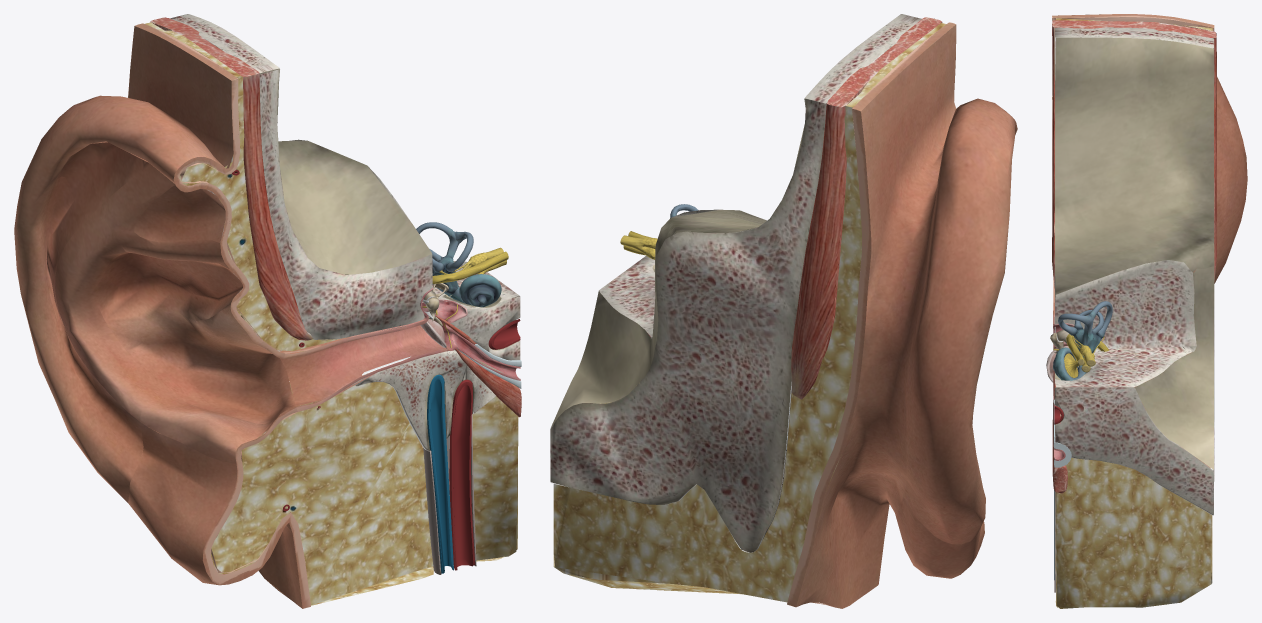
The model's file is ear.fbx.
3 renders of one model, left to right at view 1: azimuth 30°, elevation 25°; view 2: azimuth 150°, elevation 25°; view 3: azimuth 270°, elevation 25°, orthographic. The views are drawn at different scales.
Visible parts, largest first — view 1: ear; view 2: ear; view 3: ear.
Boxes of the visible parts, x1,y1,x2,y2 form: ear: [14, 14, 521, 608]; ear: [550, 14, 1017, 608]; ear: [1046, 14, 1247, 608].
Bounding box in the file's own units: 61.07 × 76.56 × 29.31.
